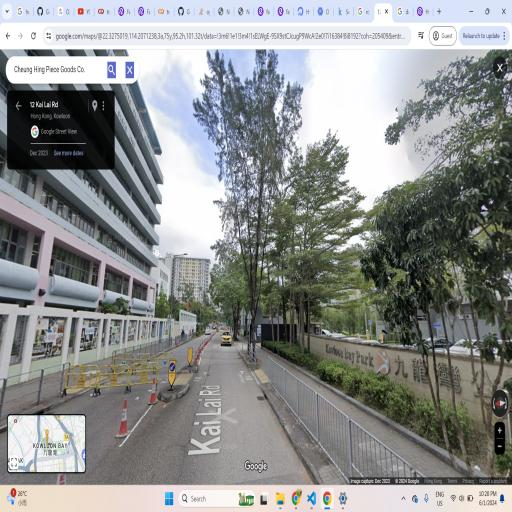Roads: (10, 301, 447, 459)
Trees: (190, 54, 374, 377), (379, 165, 512, 469)
